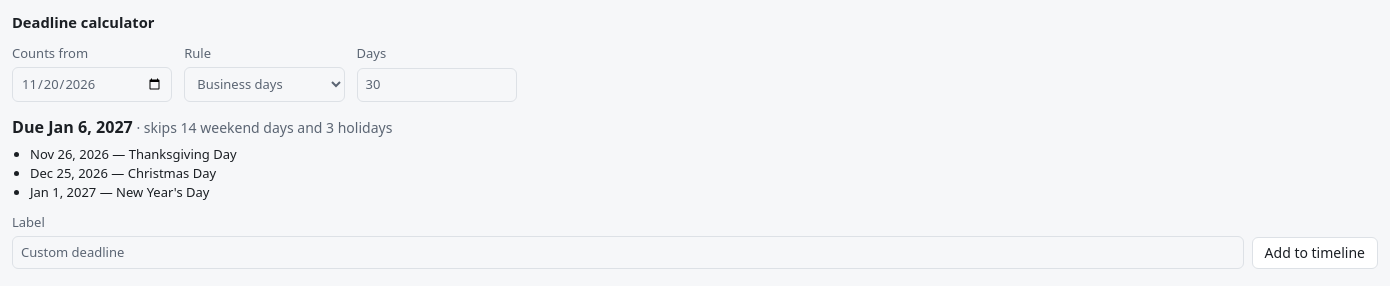
Test: <DeadlineCalculator> › switches to calendar days and shows when the date was moved
This screenshot has width=1390, height=286.
Select "Calendar days" in the dropdown labelled "Rule" at [264, 84], box [184,67,345,102]
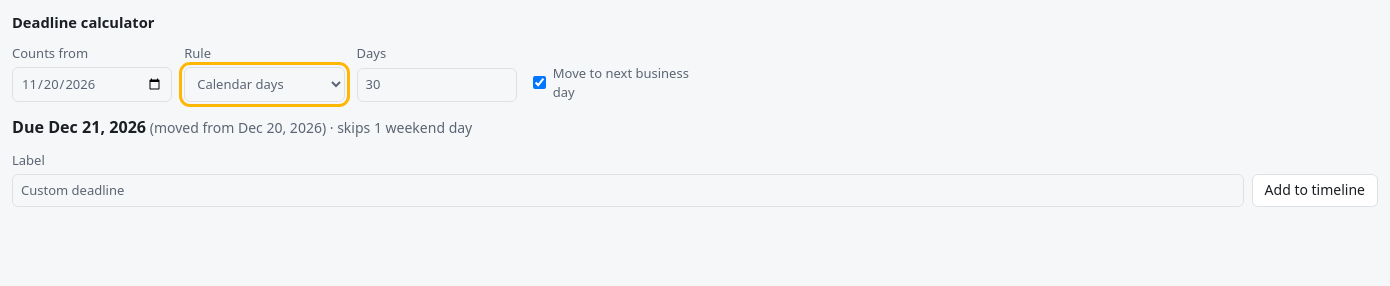
Replace the text in the number field labelled "Days" with "8" at [437, 85], box [356,68,517,102]
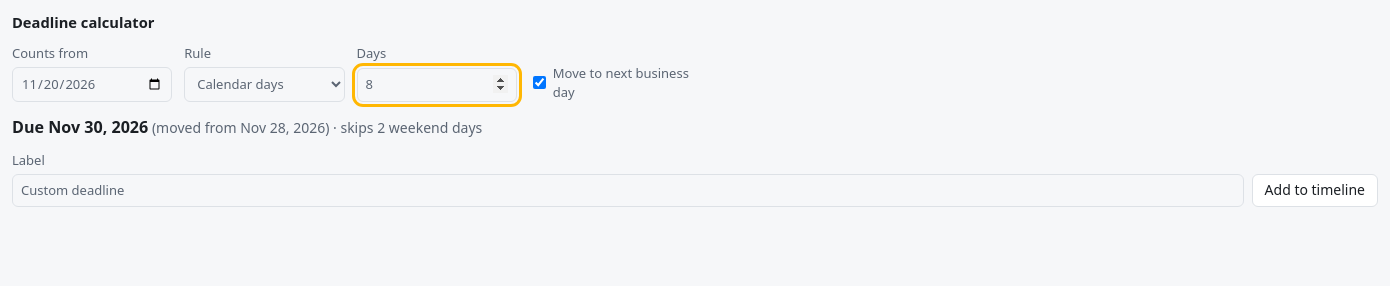
Now the element with test id "calc-result" shows "Due Nov 30, 2026 (moved from Nov 28, 2026)", box [12,116,482,138]
Click the checkbox labelled "Move to next business day" at [539, 83], box [533,76,546,89]
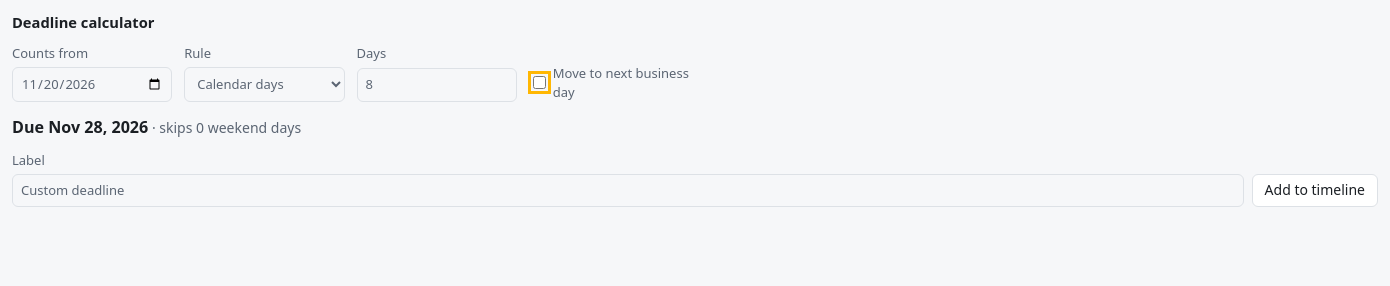
Now the element with test id "calc-result" shows "Due Nov 28, 2026", box [12,116,301,138]
Now the element with test id "calc-result" no longer shows "moved", box [12,116,301,138]
